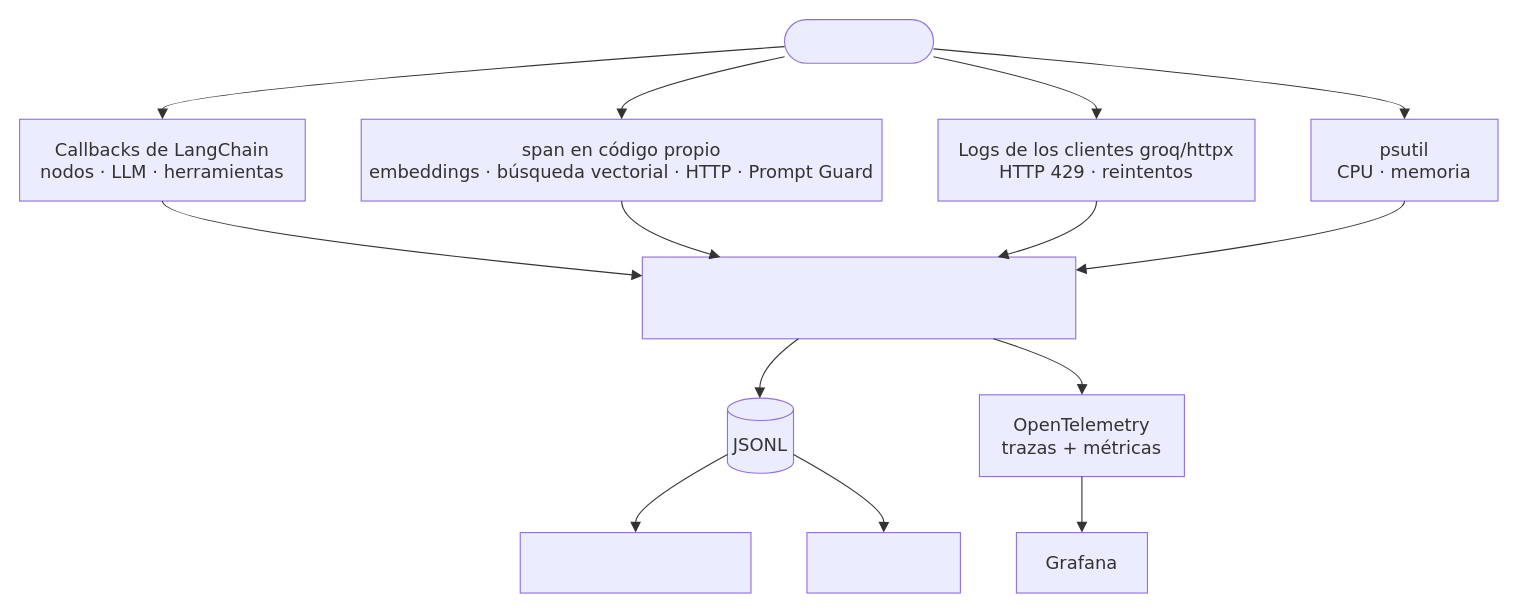
This 1518x613 diagram has some shape labels left out. Here are the shapes that lost their labels. From the top down, the box of each, then its label:
(783, 18, 934, 63): Inicio del turno
(641, 256, 1076, 339): TurnRecorder.finish latencias · tokens · costo · errores tipificados
(519, 531, 751, 593): Dashboard Streamlit
(806, 531, 960, 593): analyze.py
